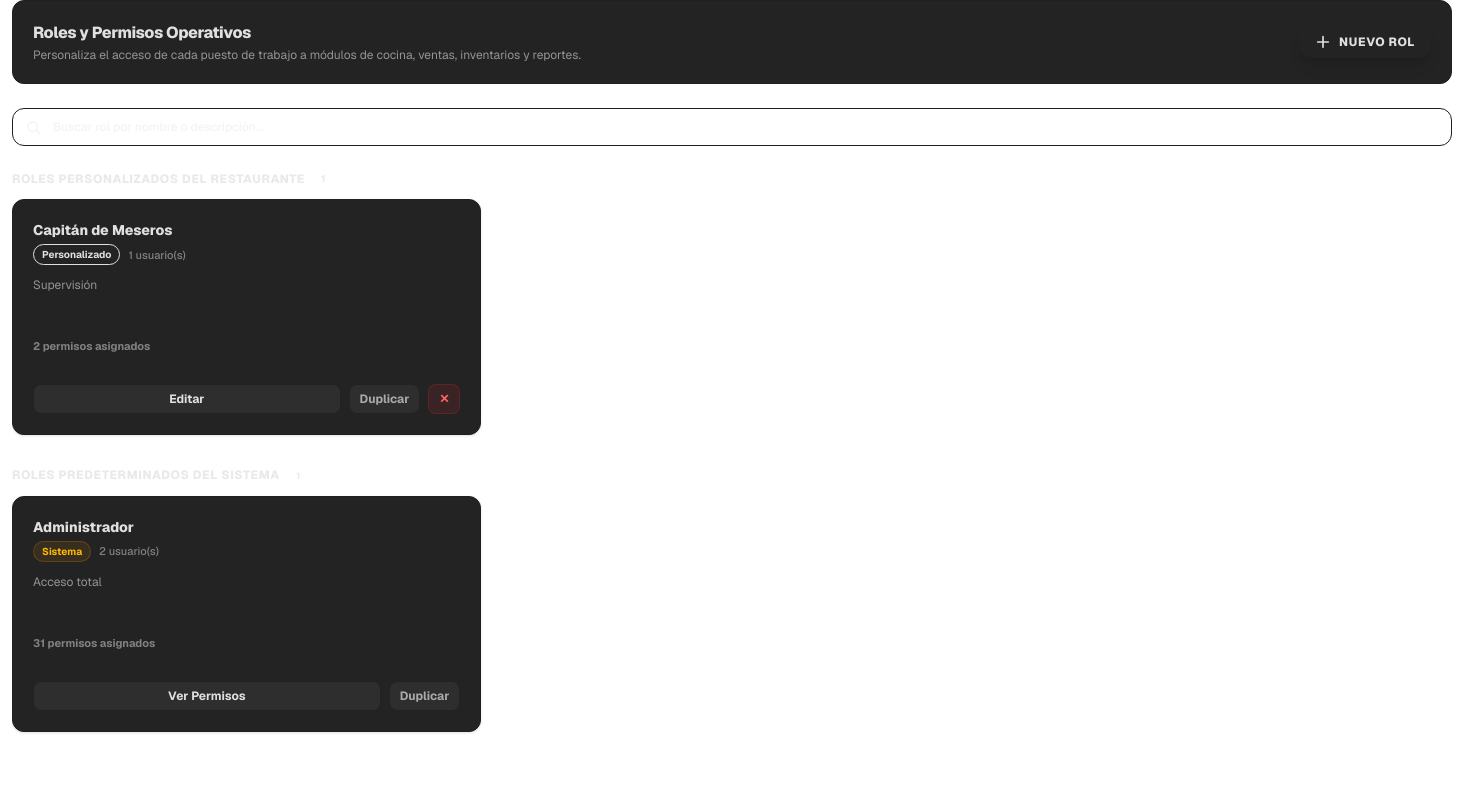
Test: AdminRolesTab › filtra roles mediante el buscador
Expected: the heading "Administrador" is shown, left=33, top=518, right=134, bottom=536
Type "Capitán" into the field with placeholder "Buscar rol por nombre o descripción..." at x=732, y=127, box left=12, top=108, right=1452, bottom=146
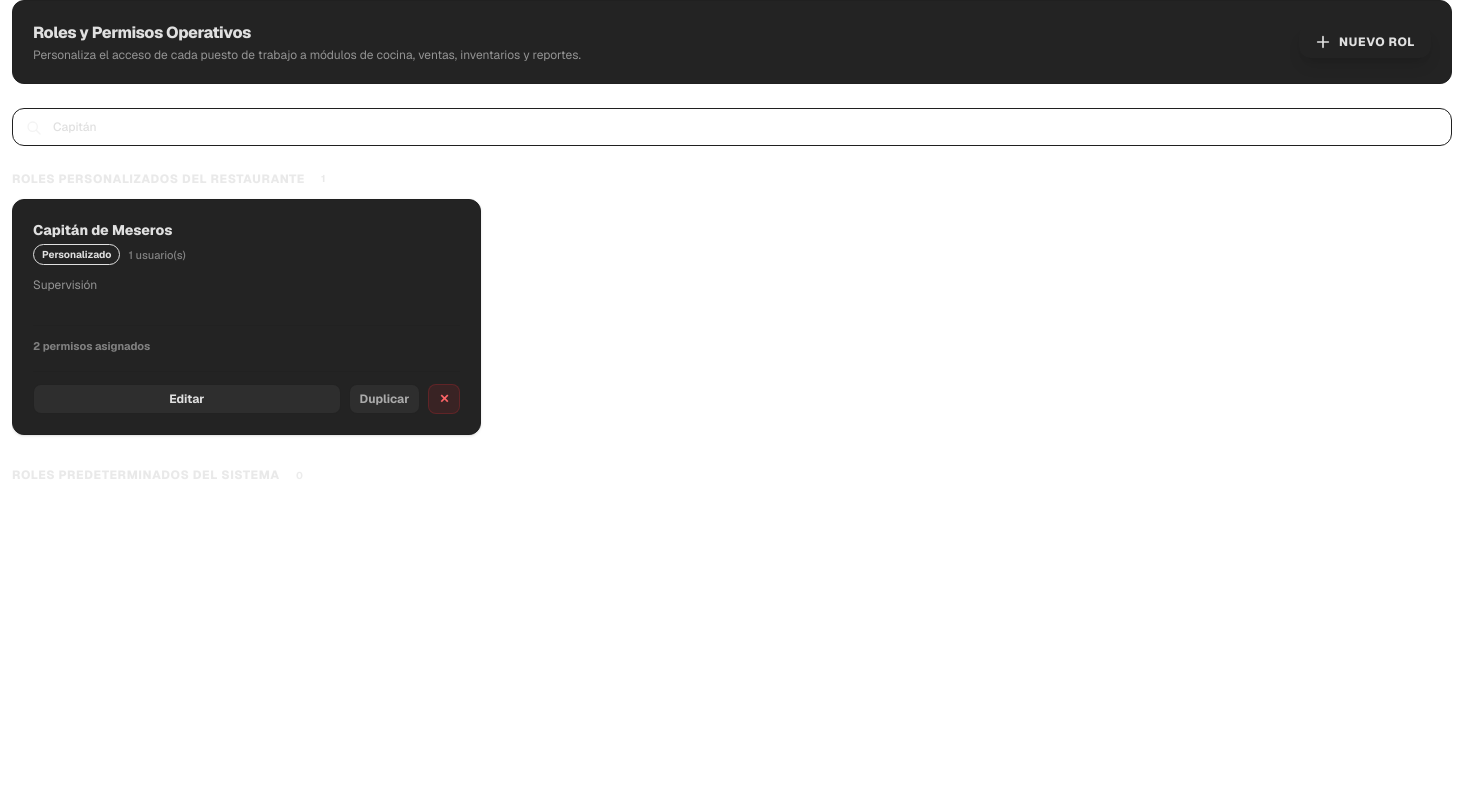
Expected: the heading "Capitán de Meseros" is shown, left=33, top=220, right=186, bottom=240
Expected: the heading "Administrador" is gone
